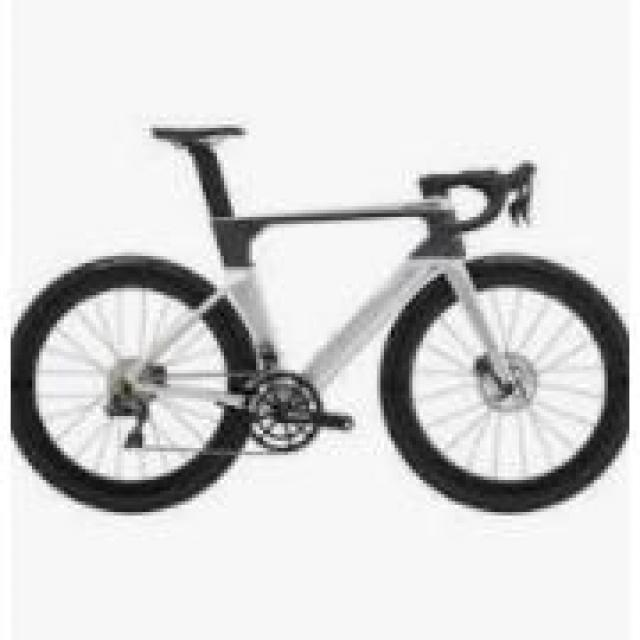bicycle: (15, 94, 640, 535)
